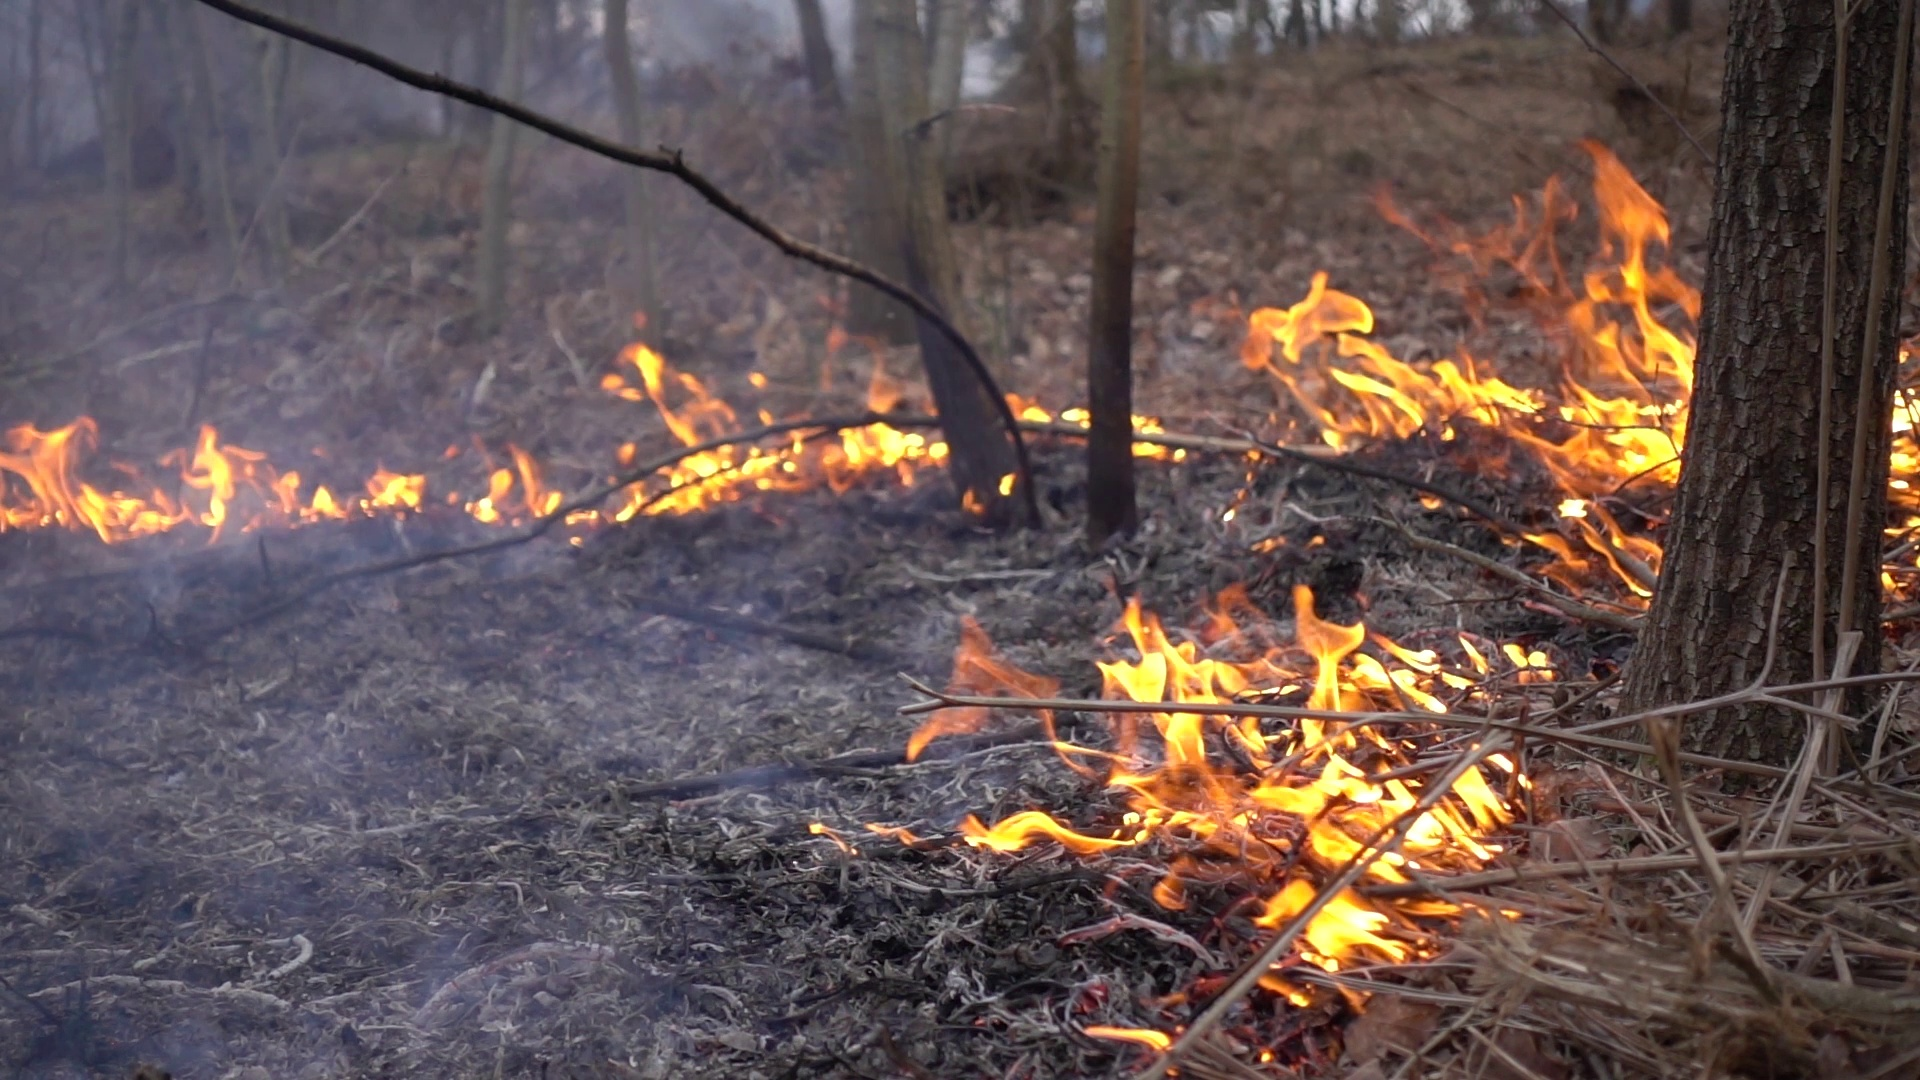fire: (951, 600, 1534, 990), (1240, 160, 1691, 597), (597, 347, 947, 512), (1, 413, 426, 539), (471, 447, 558, 525), (1888, 382, 1920, 535), (1131, 413, 1164, 455)
